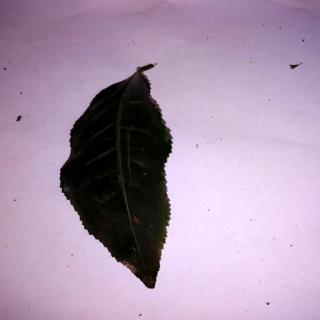Anthracnose: (60, 67, 174, 290)
